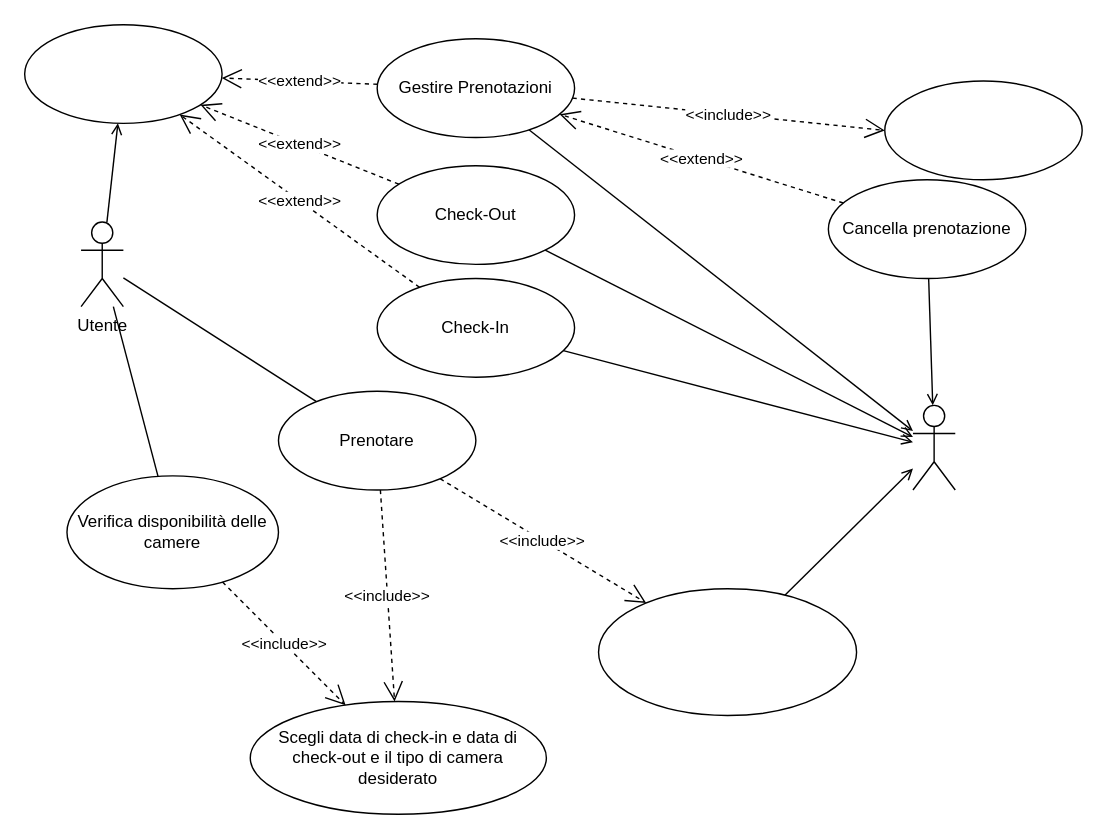
The diagram is 1107 pixels wide and 839 high, and some of its shapes have lost their labels. The shapes that lost their labels are listed below. From the top down, each one's centre as x and y in pixels, then its label:
At [122,73]: "Login".
At [982,130]: "Visualizzare le prenotazioni".
At [933,447]: "Personale Hotel".
At [727,651]: "Invia email di conferma di prenotazione".
